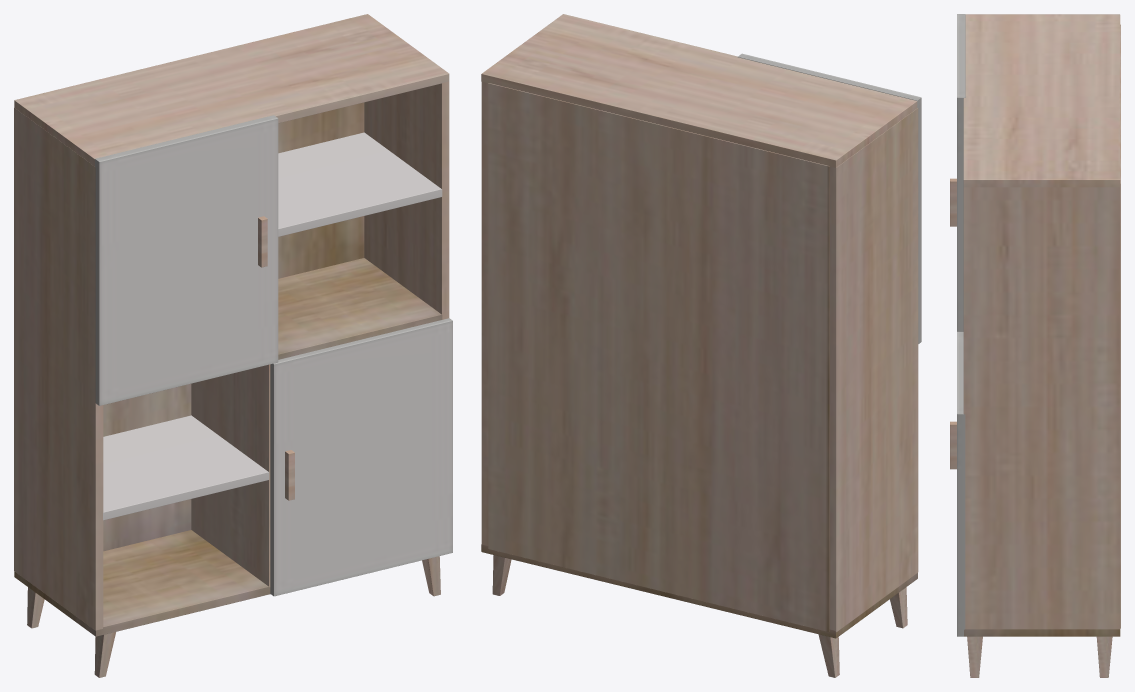
3 views of the same model, side by side, from view 1: azimuth 30°, elevation 25°; view 2: azimuth 150°, elevation 25°; view 3: azimuth 270°, elevation 25° (orthographic). The views are drawn at different scales.
Parts seen in each view (by area): view 1: RootNode; view 2: RootNode; view 3: RootNode.
Part boxes in pixels (x1,y1,x2,y2): RootNode: (14, 14, 452, 677); RootNode: (481, 14, 921, 677); RootNode: (950, 14, 1120, 677).
Bounding box in the file's own units: 0.9951 × 1.4 × 0.4342.
1 material, 1 textured.
